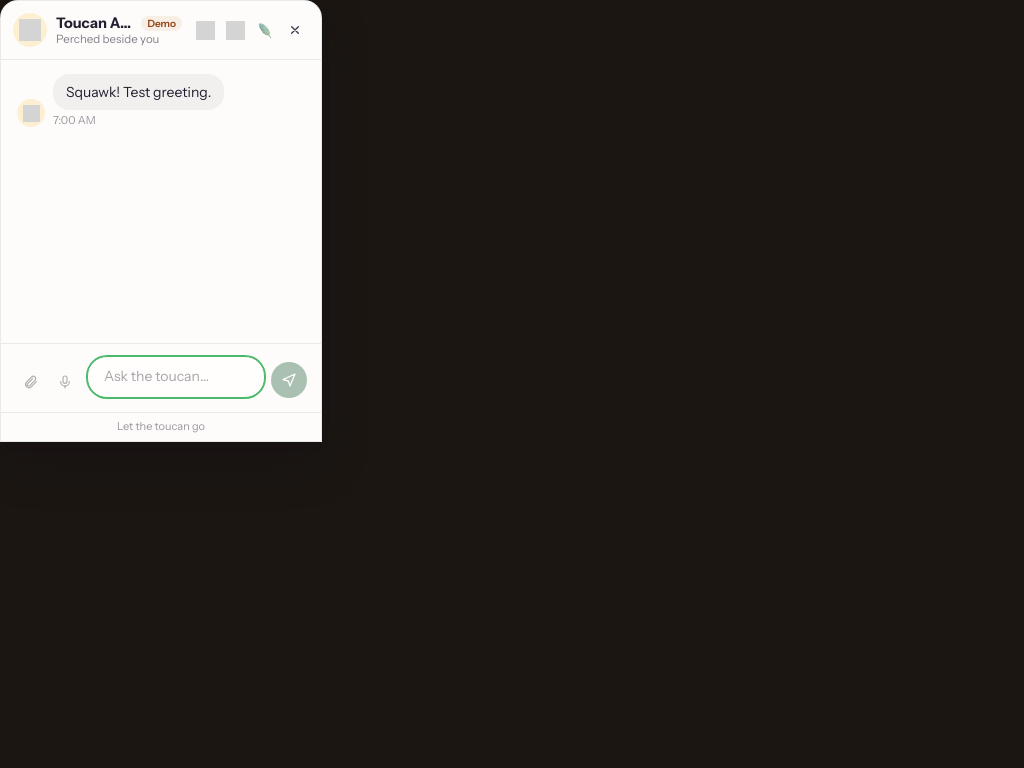
it: Toucan T9 production polish › request state › offers Retry on a failed request and re-asks without duplicating the question
In the text box named "Message the toucan": (176, 377) [87,356,265,398], type "who's online?"
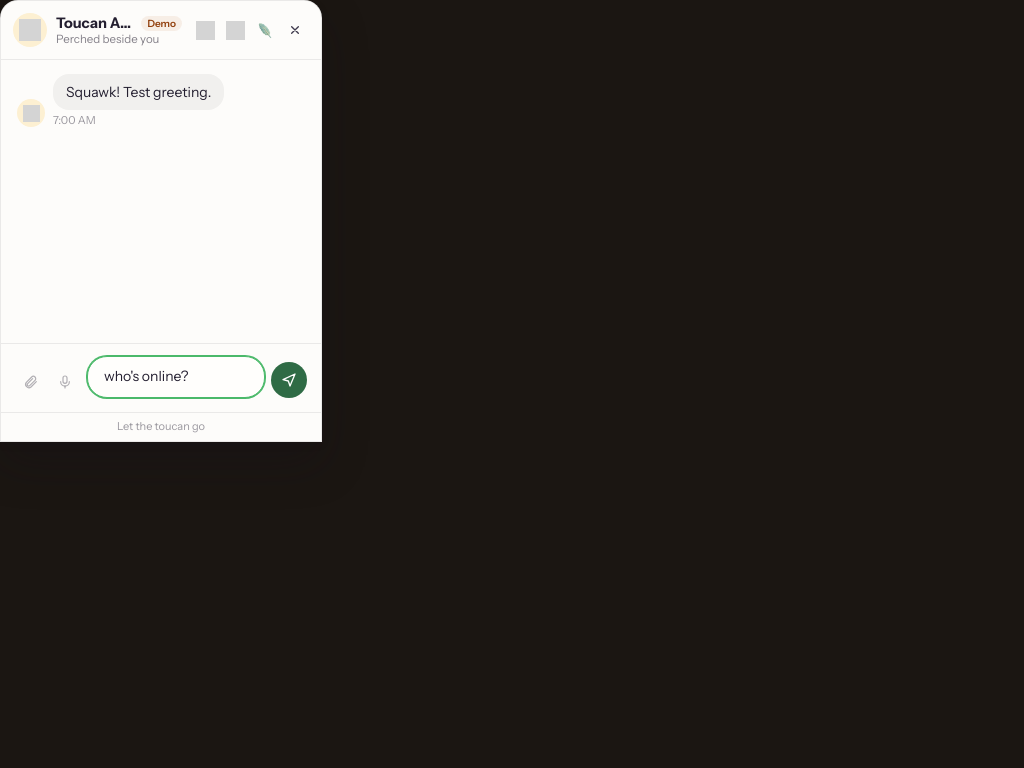
Press Enter in the text box named "Message the toucan", box [87,356,265,398]
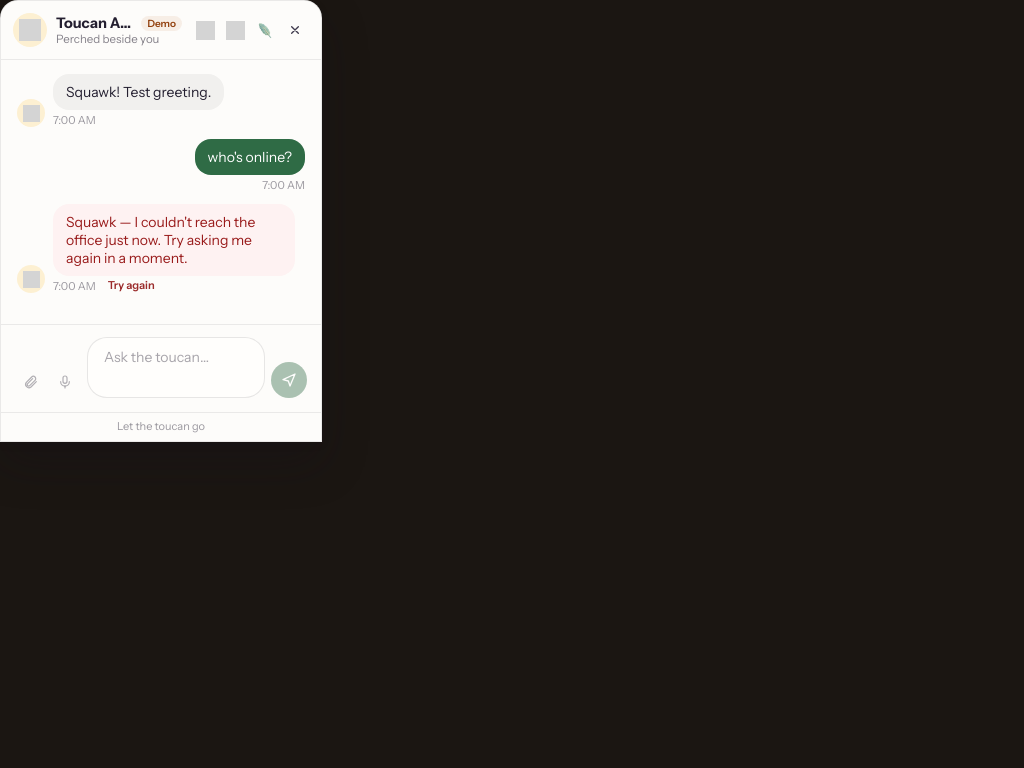
Check: the text "couldn't reach the office" is shown, box [66,213,258,267]
Click the button "Try again": (131, 284) [104,276,159,292]
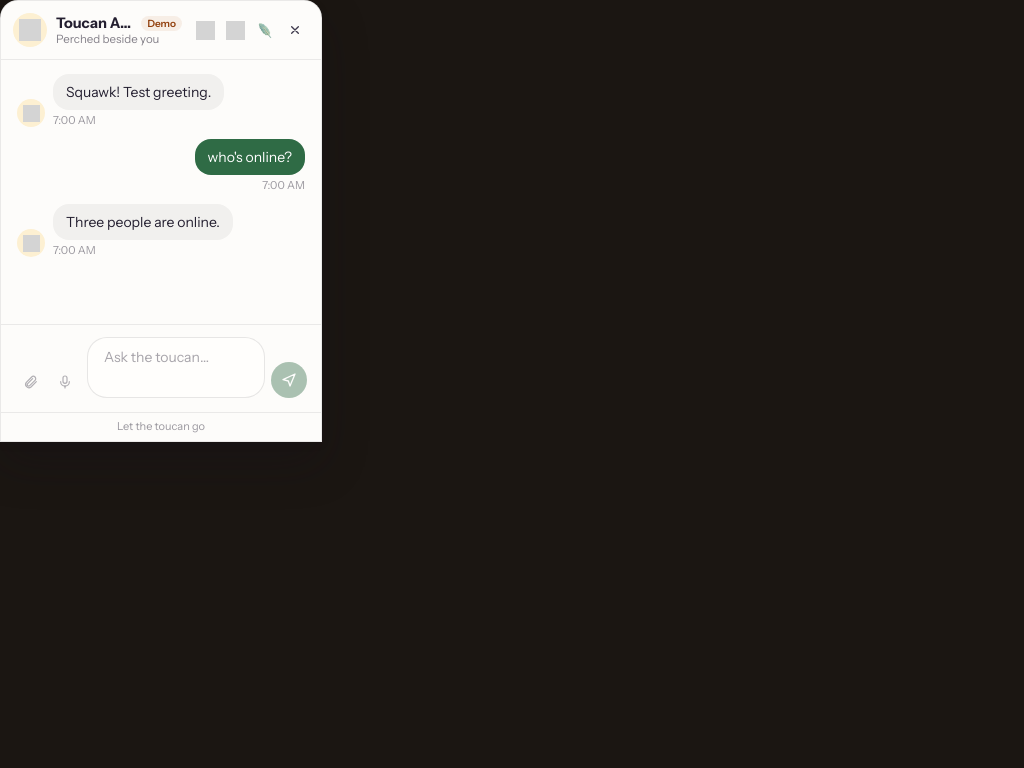
Check: the text "who's online?" is shown once, box [195,139,305,175]
Check: the text "couldn't reach the office" is gone
Check: the text "Three people are online." is shown, box [53,204,233,240]
